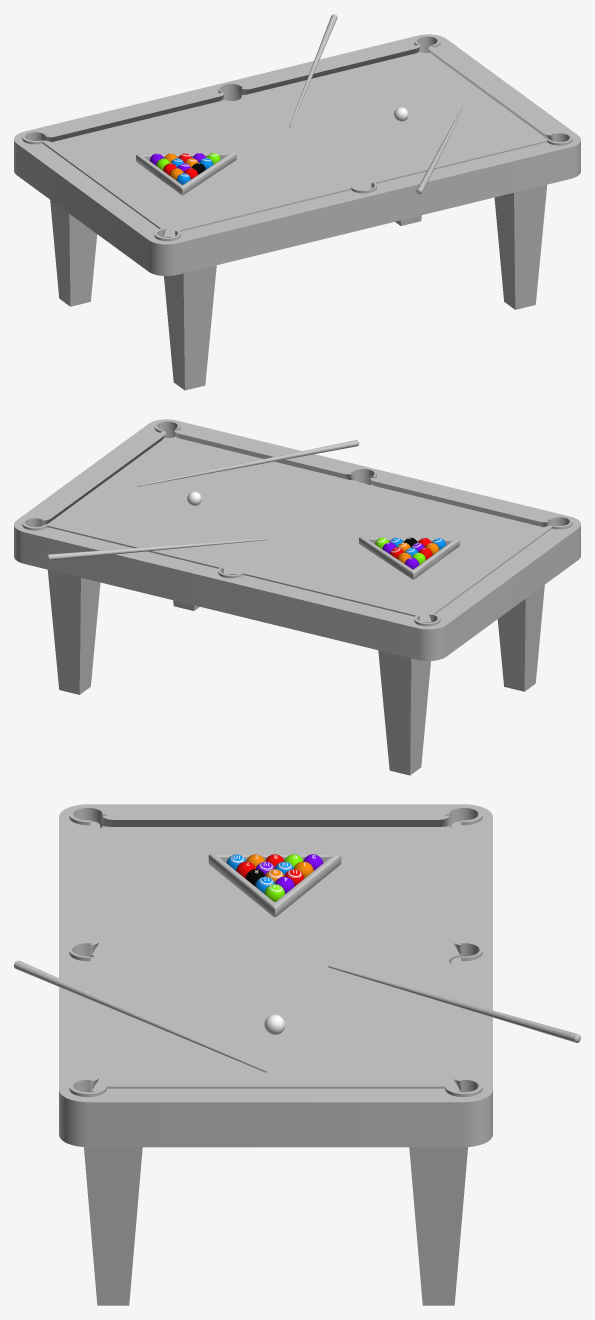
The model's file is Pool_Table.fbx.
3 renders of one model, top to bottom at view 1: azimuth 30°, elevation 25°; view 2: azimuth 150°, elevation 25°; view 3: azimuth 270°, elevation 25°, orthographic. The views are drawn at different scales.
Visible parts, largest first — view 1: Pool table; view 2: Pool table; view 3: Pool table.
Boxes of the visible parts, x1,y1,x2,y2 form: Pool table: (14, 14, 580, 390); Pool table: (14, 419, 580, 775); Pool table: (14, 804, 580, 1305).
Size of the model in its own units: 275 by 107 by 221.
